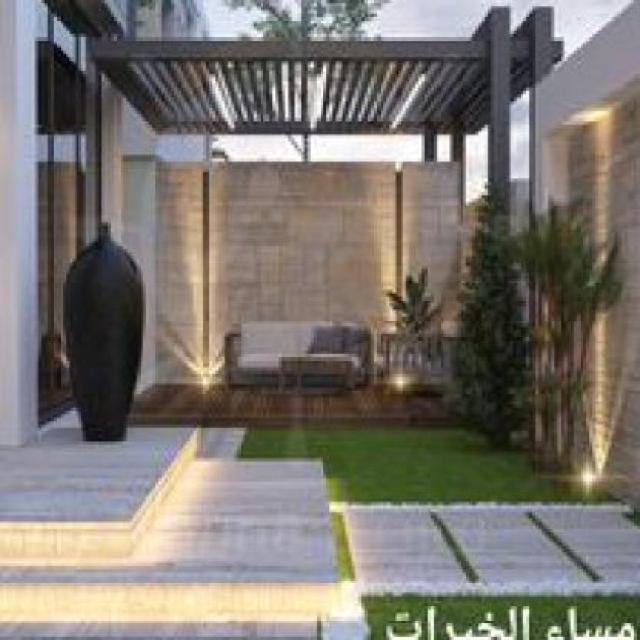stair: (15, 416, 377, 632)
